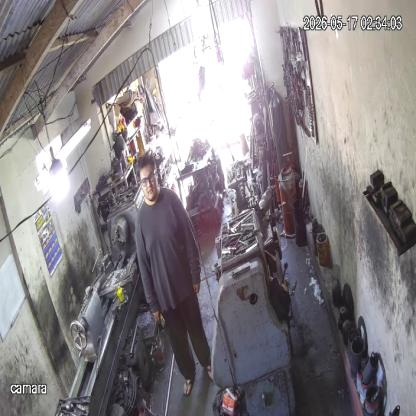lentes: (139, 171, 156, 186)
